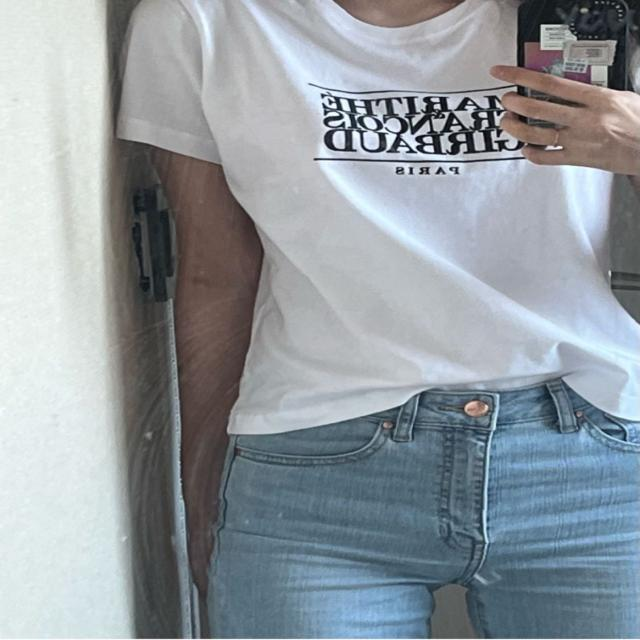denimpants: (203, 381, 640, 640)
shortsleeve: (118, 0, 640, 438)
